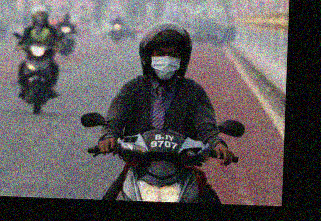with_mask: (150, 47, 181, 80)
